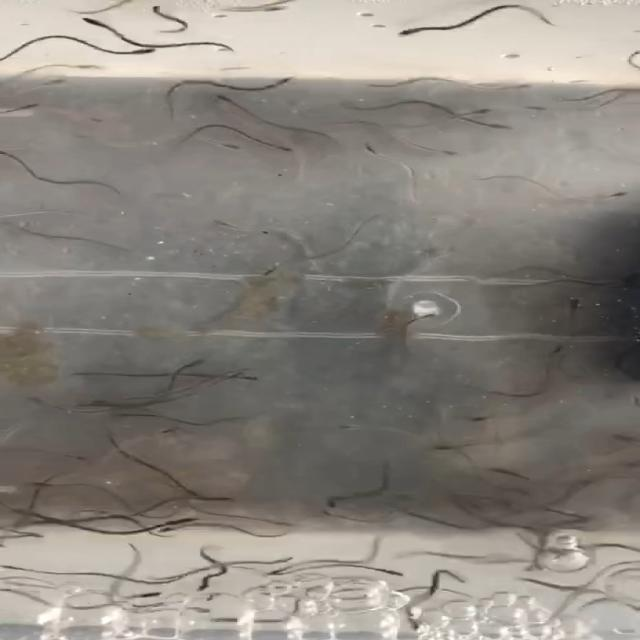active_glass_eel: (28, 73, 86, 90), (587, 187, 640, 202), (8, 98, 56, 114), (204, 138, 252, 154), (563, 294, 595, 317), (210, 487, 246, 507), (176, 479, 209, 500), (159, 424, 192, 444), (330, 420, 374, 435), (212, 608, 248, 626), (392, 616, 430, 633), (23, 393, 57, 412), (126, 44, 169, 59), (162, 522, 202, 538), (206, 92, 243, 108), (422, 429, 450, 450), (502, 76, 538, 92), (408, 306, 440, 324), (459, 104, 503, 117), (206, 216, 239, 233), (184, 581, 219, 597), (371, 566, 405, 582), (293, 538, 329, 553), (181, 356, 212, 373), (74, 15, 114, 28), (466, 412, 496, 429), (514, 105, 558, 116), (480, 116, 510, 132), (132, 586, 166, 600), (0, 562, 38, 574), (428, 148, 463, 161), (252, 264, 284, 278), (53, 452, 87, 465), (545, 339, 569, 357), (316, 495, 349, 508), (266, 73, 305, 84), (27, 479, 60, 492), (68, 57, 95, 72), (256, 3, 289, 15), (271, 566, 307, 577), (359, 142, 386, 155), (229, 373, 259, 384), (392, 26, 420, 37), (271, 143, 298, 154), (0, 146, 14, 160)
